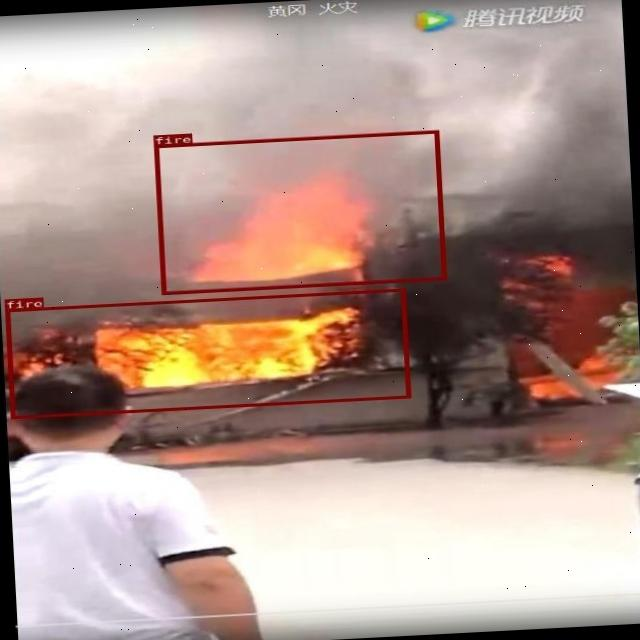fire: (4, 288, 410, 418), (154, 130, 445, 294)
